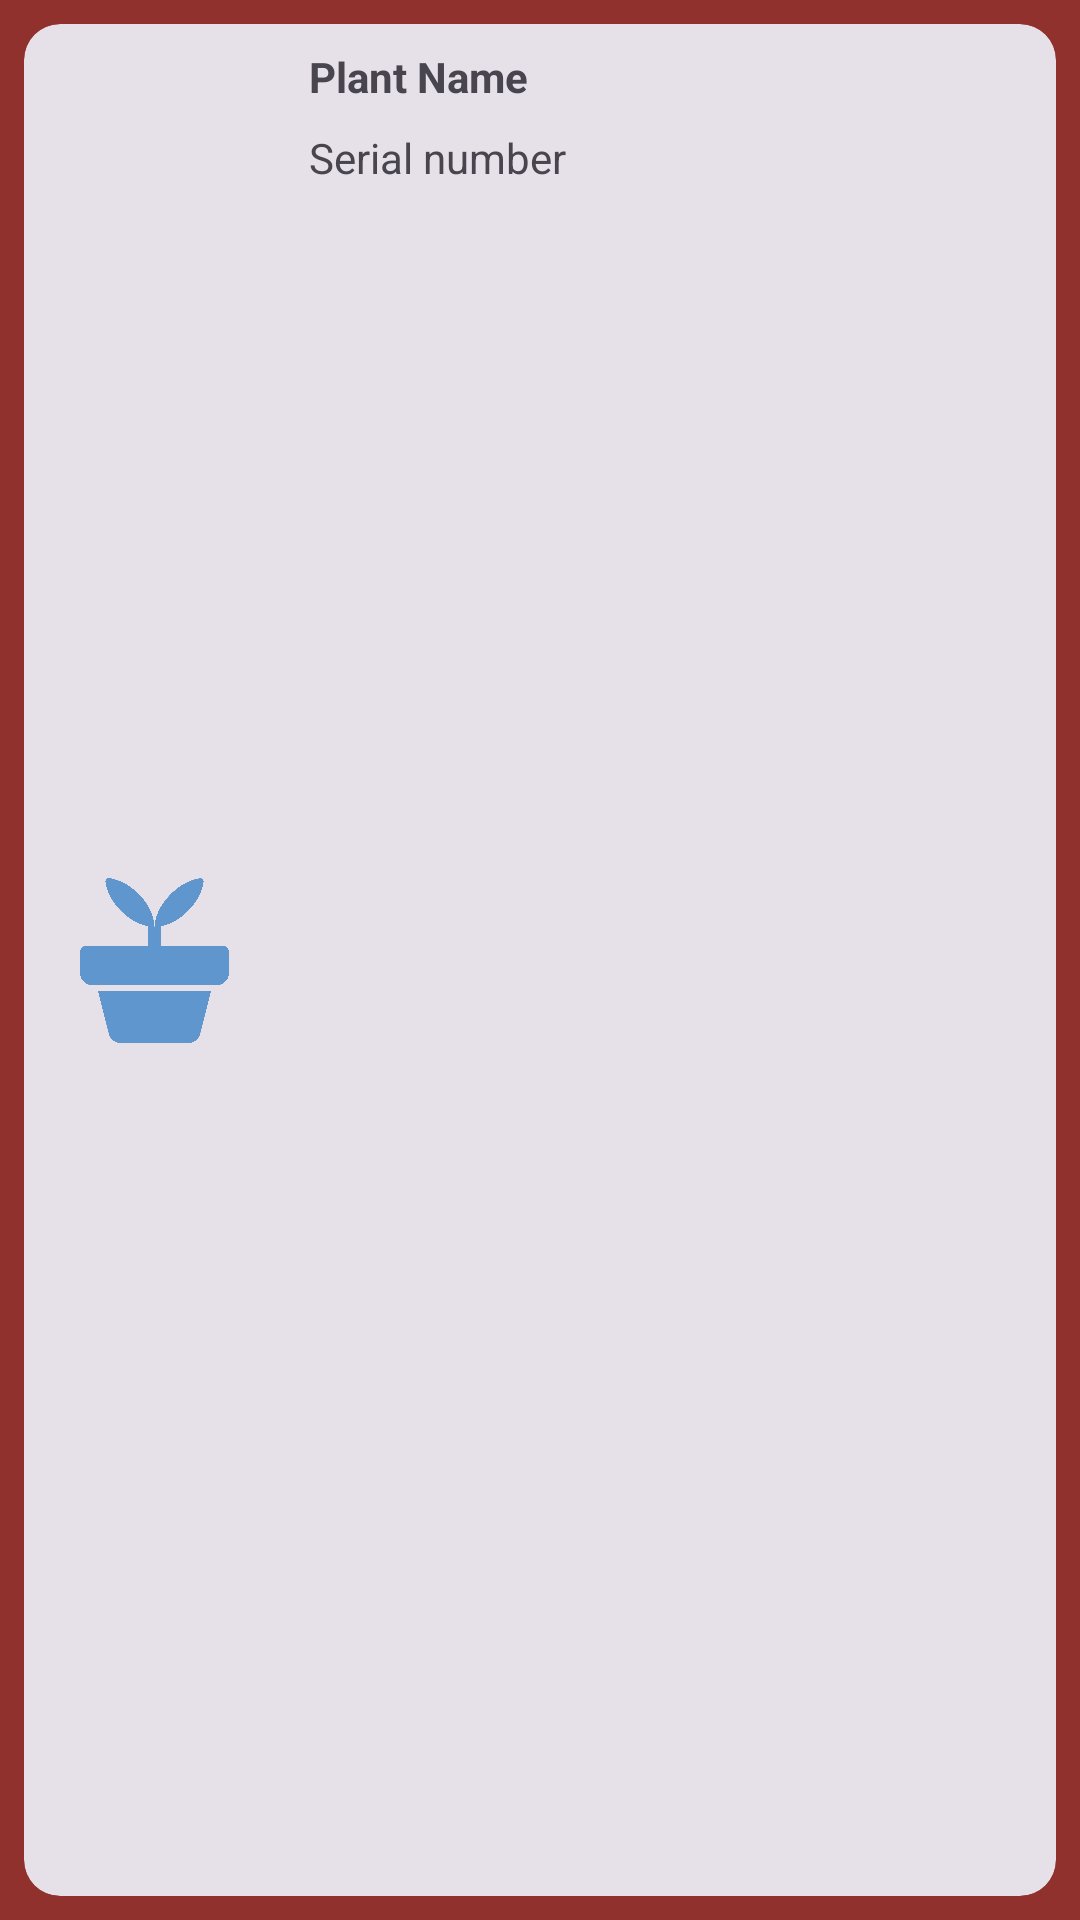

Named icons in this screenshot (1080 x 1920) and their centers, [x,y]:
planta defult: [154,960]
